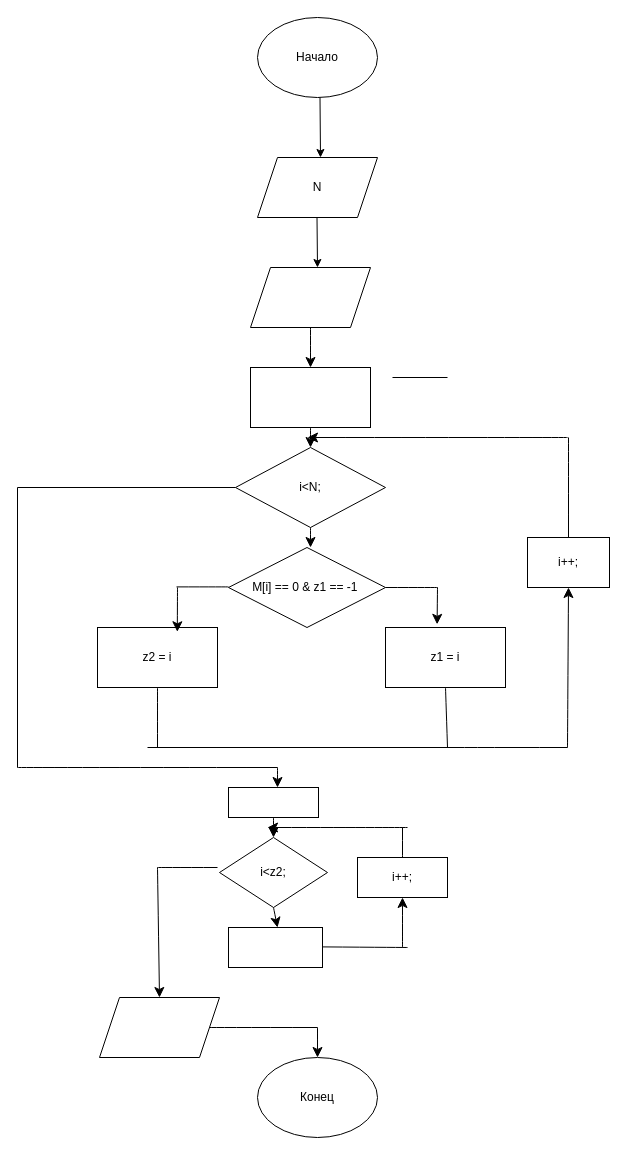
The diagram is 627 pixels wide and 1155 high, and some of its shapes have lost their labels. Here are the shapes that lost their labels. From the top down, the centre of each, then its label:
At pixel 310 297: "M[i]".
At pixel 310 397: "int i = 0".
At pixel 273 802: "int i = z1+1;".
At pixel 275 947: "rez = rez * M[i];".
At pixel 159 1027: "rez;".
